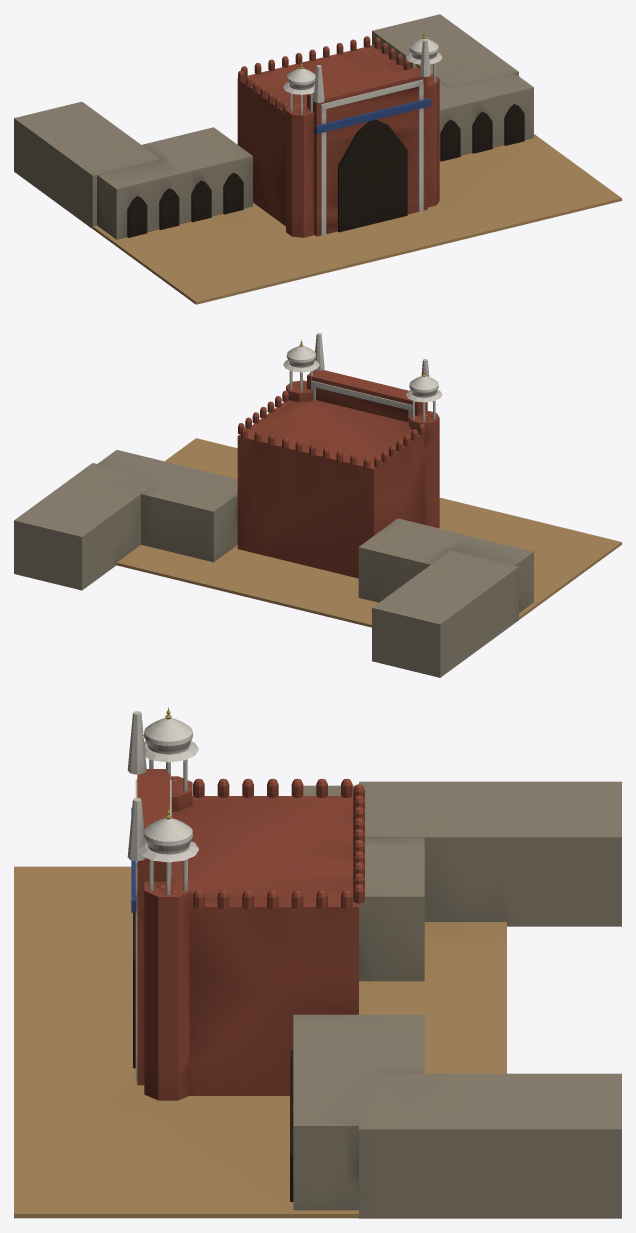
File: arab-sarai.glb
3 renders of one model, top to bottom at view 1: azimuth 30°, elevation 25°; view 2: azimuth 150°, elevation 25°; view 3: azimuth 270°, elevation 25°, orthographic. The views are drawn at different scales.
Visible parts, largest first — view 1: p0_walls, p1_gate; view 2: p0_walls, p1_gate; view 3: p0_walls, p1_gate.
Boxes of the visible parts, x1=… form: p0_walls: x1=14, y1=14, x2=621, y2=304; p1_gate: x1=237, y1=32, x2=442, y2=237; p0_walls: x1=14, y1=438, x2=621, y2=677; p1_gate: x1=237, y1=333, x2=442, y2=578; p0_walls: x1=14, y1=781, x2=621, y2=1218; p1_gate: x1=127, y1=707, x2=364, y2=1100.
Bounding box in the file's own units: 50.04 × 19.39 × 37.
